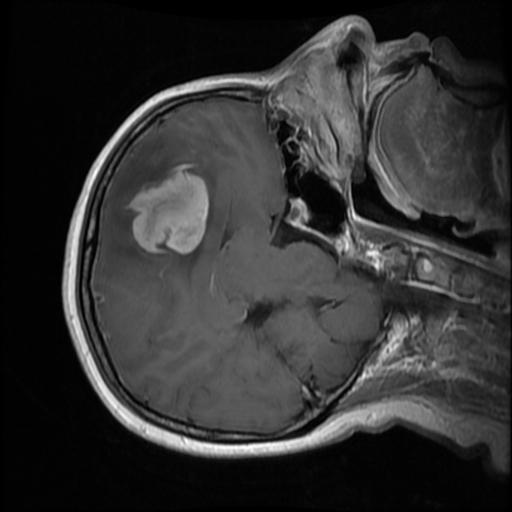meningioma: (124, 163, 208, 255)
